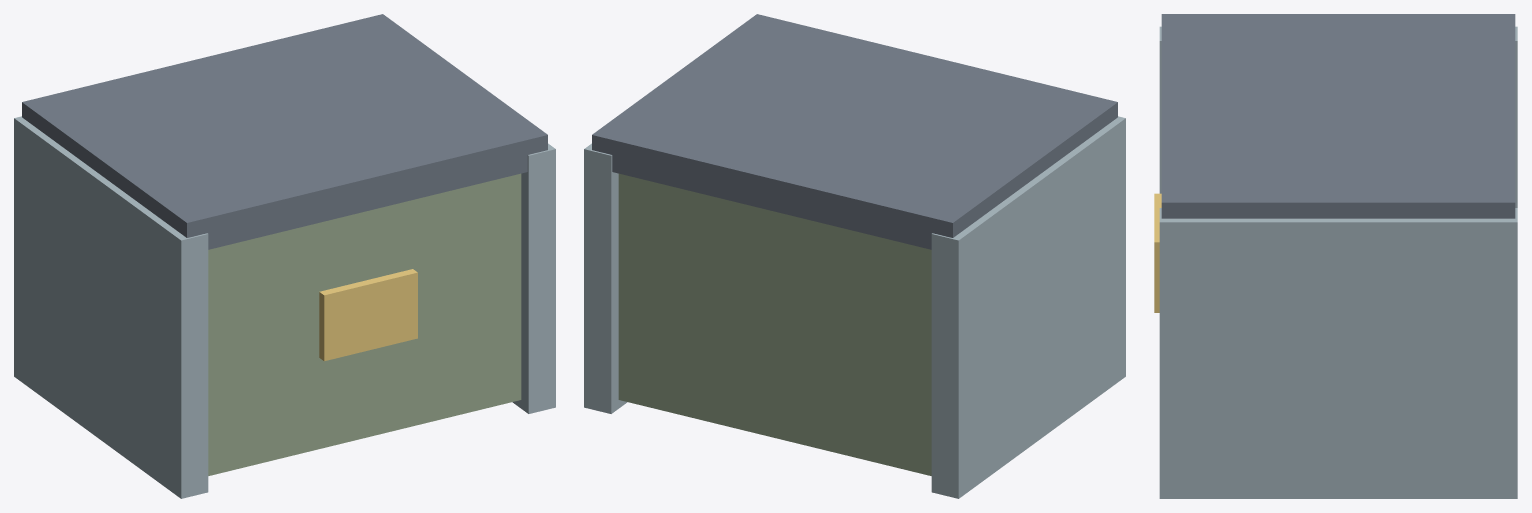
Rendered from armored-supply-crate.glb.
3 views of the same model, side by side, from view 1: azimuth 30°, elevation 25°; view 2: azimuth 150°, elevation 25°; view 3: azimuth 270°, elevation 25° (orthographic). The views are drawn at different scales.
Visible parts, largest first — view 1: Caisse de ravitaillement blindee; view 2: Caisse de ravitaillement blindee; view 3: Caisse de ravitaillement blindee.
Part boxes in pixels (x1,y1,x2,y2): Caisse de ravitaillement blindee: (14,14,555,498); Caisse de ravitaillement blindee: (584,14,1125,498); Caisse de ravitaillement blindee: (1154,14,1517,498).
Bounding box in the file's own units: 2.2 × 1.53 × 1.73.
